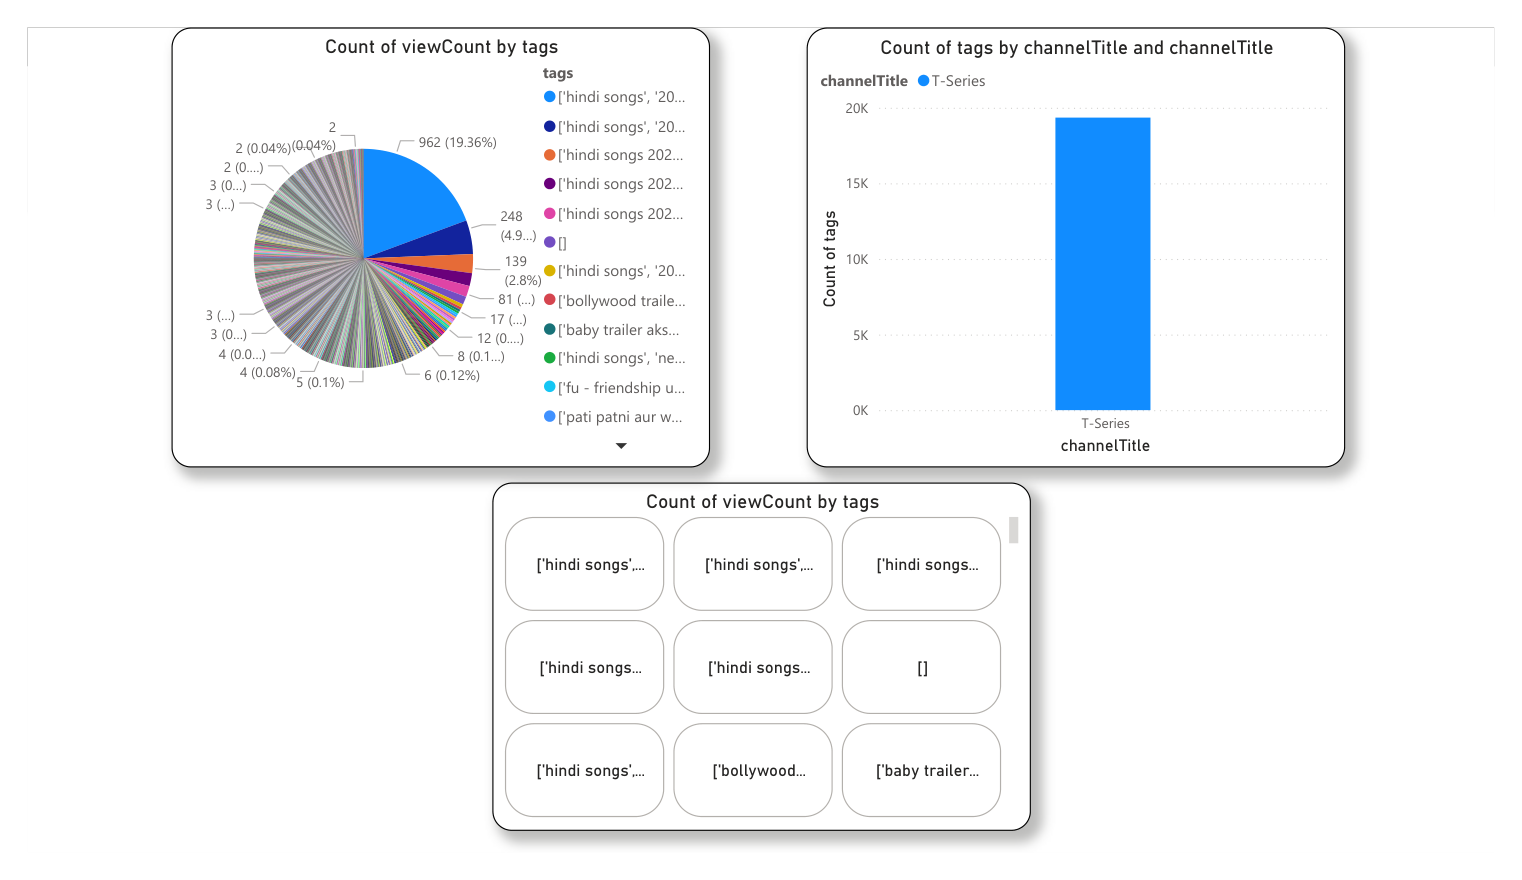

The page's visual inventory and layout, read from the dashboard file:
{"tool":"powerbi","page":{"name":"CCA","canvas":[1280,720],"ordinal":1},"visuals":[{"type":"clusteredColumnChart","fields":{"Category":["songs xlsx - Sheet1.channelTitle"],"Series":["songs xlsx - Sheet1.channelTitle"],"Y":["CountNonNull(songs xlsx - Sheet1.tags)"]},"box":[680,0,470,384.3],"z":0},{"type":"advancedSlicerVisual","fields":{"Values":["songs xlsx - Sheet1.tags"]},"box":[405.7,397.1,470,304.3],"z":1000},{"type":"pieChart","fields":{"Category":["songs xlsx - Sheet1.tags"],"Y":["CountNonNull(songs xlsx - Sheet1.viewCount)"]},"box":[125.7,0,470,384.3],"z":2000}]}

Visuals, with their boxes in screenshot pixels (x1, y1, x2, y2), scaled from the page's 1280x720 canvas onto the 1522x880 screenshot:
clusteredColumnChart - songs xlsx - Sheet1.channelTitle x songs xlsx - Sheet1.channelTitle: locate(809, 0, 1367, 470)
advancedSlicerVisual - songs xlsx - Sheet1.tags: locate(482, 485, 1041, 857)
pieChart - songs xlsx - Sheet1.tags x CountNonNull(songs xlsx - Sheet1.viewCount): locate(149, 0, 708, 470)
